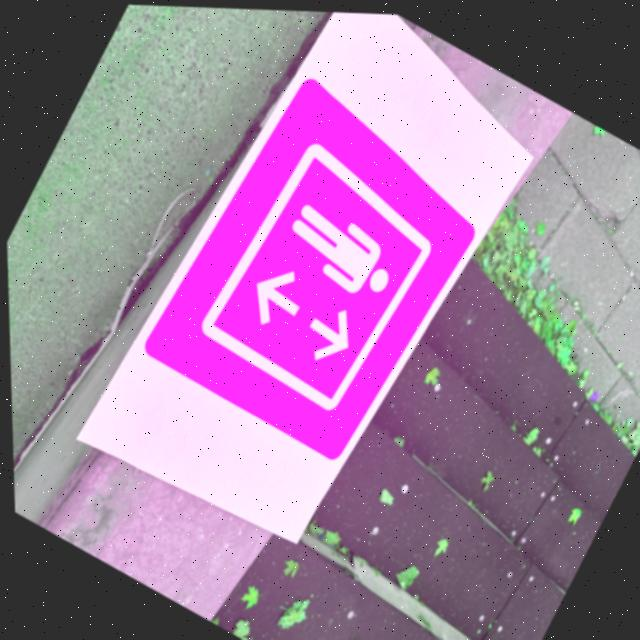elevator: (144, 75, 476, 459)
